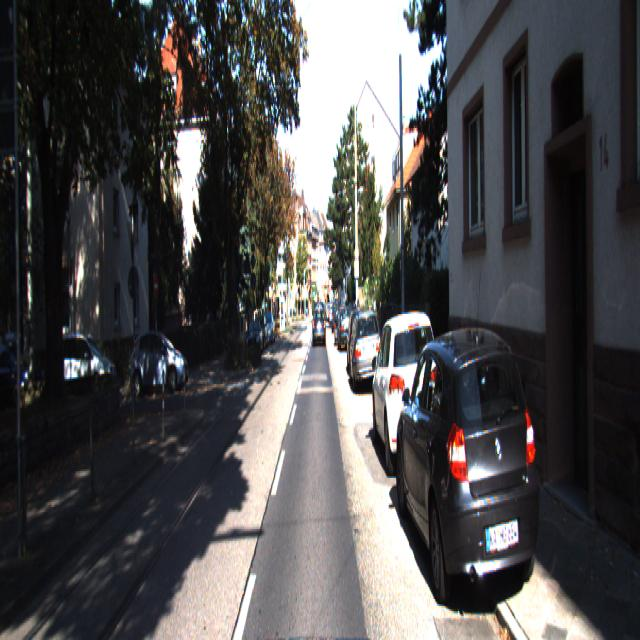Car: (395, 310, 552, 628), (371, 304, 443, 482), (50, 328, 119, 402), (129, 326, 190, 398), (348, 306, 382, 393), (0, 338, 30, 410), (338, 306, 355, 352), (312, 305, 326, 347)
DontCare: (245, 311, 274, 356)
